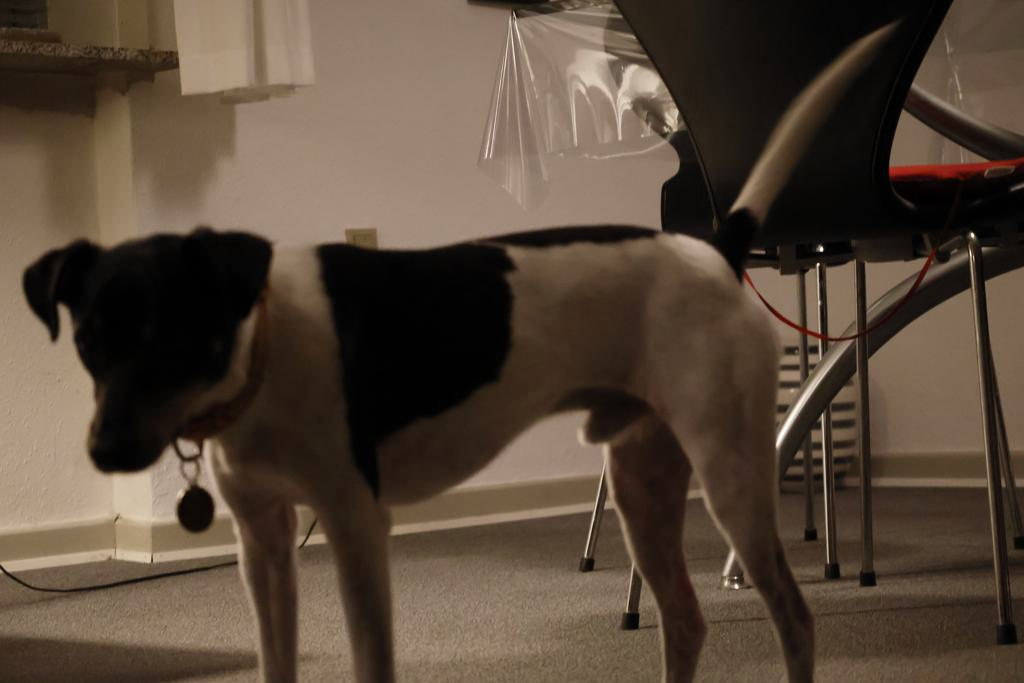Dog: (15, 13, 905, 683)
